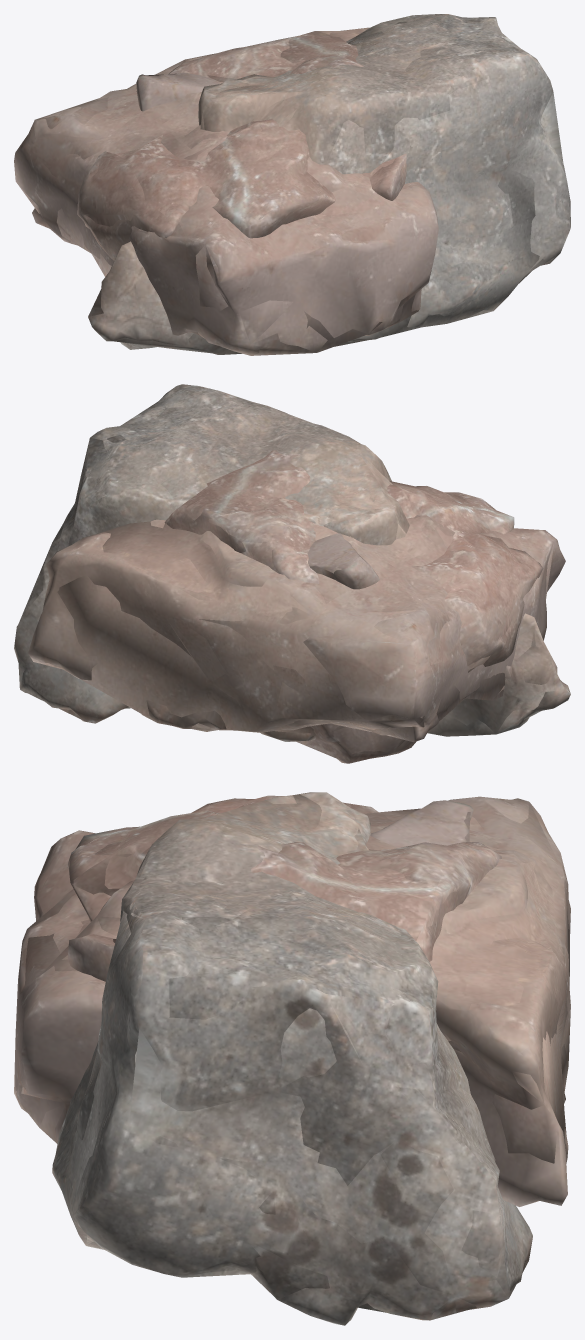
Rendered from small_limestone_rocks_pack_ufllcisva.glb.
3 renders of one model, top to bottom at view 1: azimuth 30°, elevation 25°; view 2: azimuth 150°, elevation 25°; view 3: azimuth 270°, elevation 25°, orthographic. The views are drawn at different scales.
Parts seen in each view (by area): view 1: ufllcisva_LOD0_TIER2_000, ufllcisva_LOD0_TIER2_003, ufllcisva_LOD0_TIER2_000_MatID_1_0_far, ufllcisva_LOD0_TIER2_002, ufllcisva_LOD0_TIER2_003_MatID_1_0_far, ufllcisva_LOD0_TIER2_002_MatID_1_0_far, ufllcisva_LOD0_TIER2_001; view 2: ufllcisva_LOD0_TIER2_003, ufllcisva_LOD0_TIER2_003_MatID_1_0_far, ufllcisva_LOD0_TIER2_000, ufllcisva_LOD0_TIER2_002, ufllcisva_LOD0_TIER2_000_MatID_1_0_far, ufllcisva_LOD0_TIER2_002_MatID_1_0_far, ufllcisva_LOD0_TIER2_001; view 3: ufllcisva_LOD0_TIER2_000, ufllcisva_LOD0_TIER2_000_MatID_1_0_far, ufllcisva_LOD0_TIER2_003, ufllcisva_LOD0_TIER2_003_MatID_1_0_far, ufllcisva_LOD0_TIER2_002, ufllcisva_LOD0_TIER2_002_MatID_1_0_far, ufllcisva_LOD0_TIER2_001.
Boxes of the visible parts, bbox=[...] form: ufllcisva_LOD0_TIER2_000: bbox=[88, 14, 570, 354]; ufllcisva_LOD0_TIER2_003: bbox=[14, 27, 438, 355]; ufllcisva_LOD0_TIER2_000_MatID_1_0_far: bbox=[88, 17, 563, 354]; ufllcisva_LOD0_TIER2_002: bbox=[77, 35, 406, 260]; ufllcisva_LOD0_TIER2_003_MatID_1_0_far: bbox=[16, 31, 427, 355]; ufllcisva_LOD0_TIER2_002_MatID_1_0_far: bbox=[78, 34, 394, 236]; ufllcisva_LOD0_TIER2_001: bbox=[136, 72, 219, 111]; ufllcisva_LOD0_TIER2_003: bbox=[28, 515, 565, 742]; ufllcisva_LOD0_TIER2_003_MatID_1_0_far: bbox=[34, 514, 565, 741]; ufllcisva_LOD0_TIER2_000: bbox=[14, 384, 570, 741]; ufllcisva_LOD0_TIER2_002: bbox=[167, 450, 543, 763]; ufllcisva_LOD0_TIER2_000_MatID_1_0_far: bbox=[17, 392, 565, 736]; ufllcisva_LOD0_TIER2_002_MatID_1_0_far: bbox=[164, 458, 525, 763]; ufllcisva_LOD0_TIER2_001: bbox=[307, 533, 379, 589]; ufllcisva_LOD0_TIER2_000: bbox=[52, 792, 532, 1325]; ufllcisva_LOD0_TIER2_000_MatID_1_0_far: bbox=[52, 793, 528, 1320]; ufllcisva_LOD0_TIER2_003: bbox=[14, 796, 570, 1206]; ufllcisva_LOD0_TIER2_003_MatID_1_0_far: bbox=[14, 796, 570, 1163]; ufllcisva_LOD0_TIER2_002: bbox=[67, 795, 501, 981]; ufllcisva_LOD0_TIER2_002_MatID_1_0_far: bbox=[73, 795, 497, 950]; ufllcisva_LOD0_TIER2_001: bbox=[370, 800, 473, 847].
Bounding box in the file's own units: 0.1736 × 0.0903 × 0.1257.
1 material, 1 textured.
